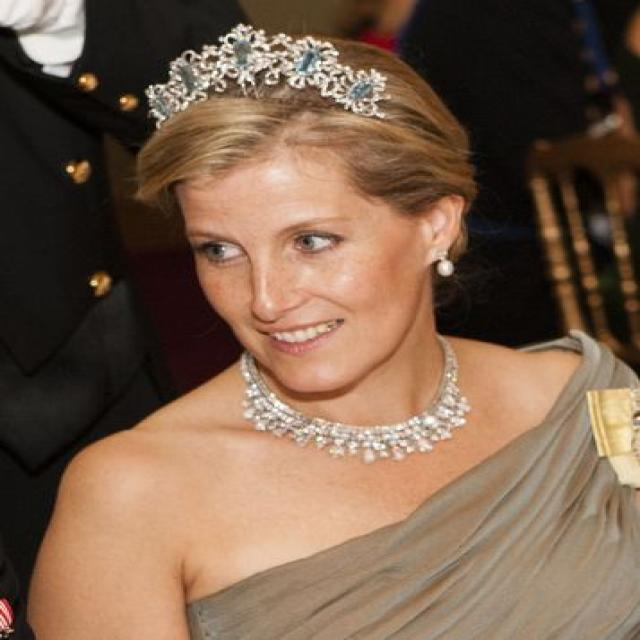Earring: (430, 238, 460, 290)
